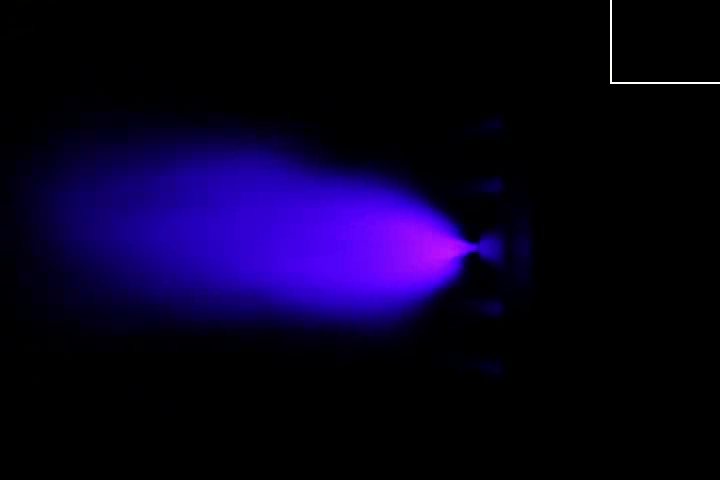burner cap: (473, 222, 512, 272)
stable: (368, 194, 474, 306)
